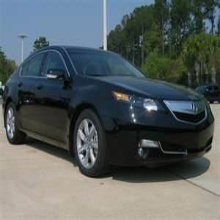no damage: (2, 44, 216, 177)
